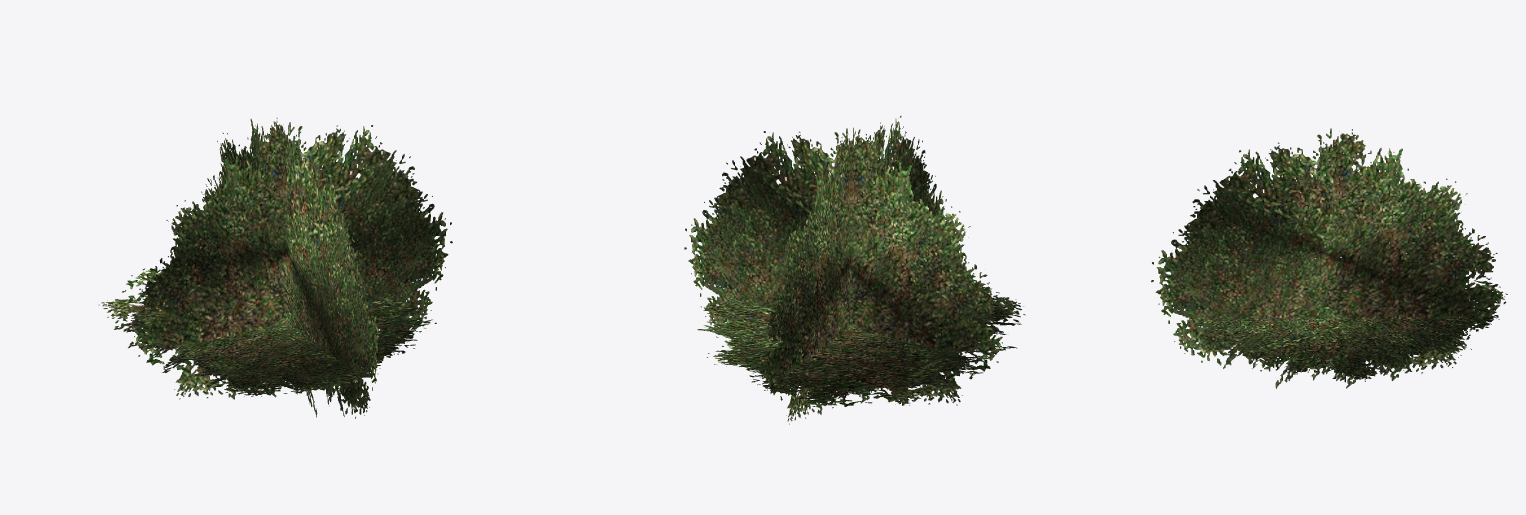
The model's file is shrb_leafbush_lg_l1.fbx.
3 renders of one model, left to right at view 1: azimuth 30°, elevation 25°; view 2: azimuth 150°, elevation 25°; view 3: azimuth 270°, elevation 25°, orthographic. The views are drawn at different scales.
Parts seen in each view (by area): view 1: mesh_node; view 2: mesh_node; view 3: mesh_node.
Part boxes in pixels (x1,y1,x2,y2): mesh_node: (98, 118, 452, 418); mesh_node: (684, 116, 1025, 424); mesh_node: (1151, 128, 1507, 388).
Bounding box in the file's own units: 3.79 × 3.5 × 3.51.
1 material, 1 textured.
